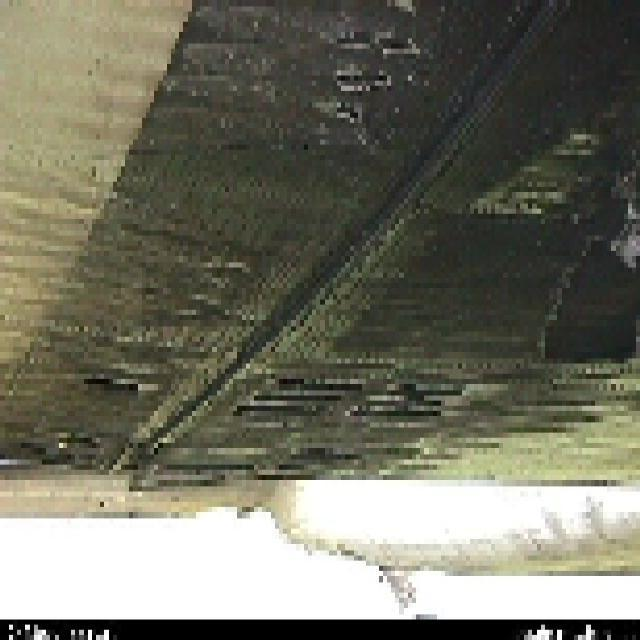crack: (321, 27, 422, 123)
